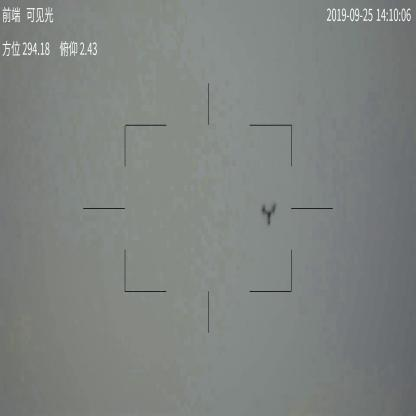uav: (262, 200, 281, 226)
